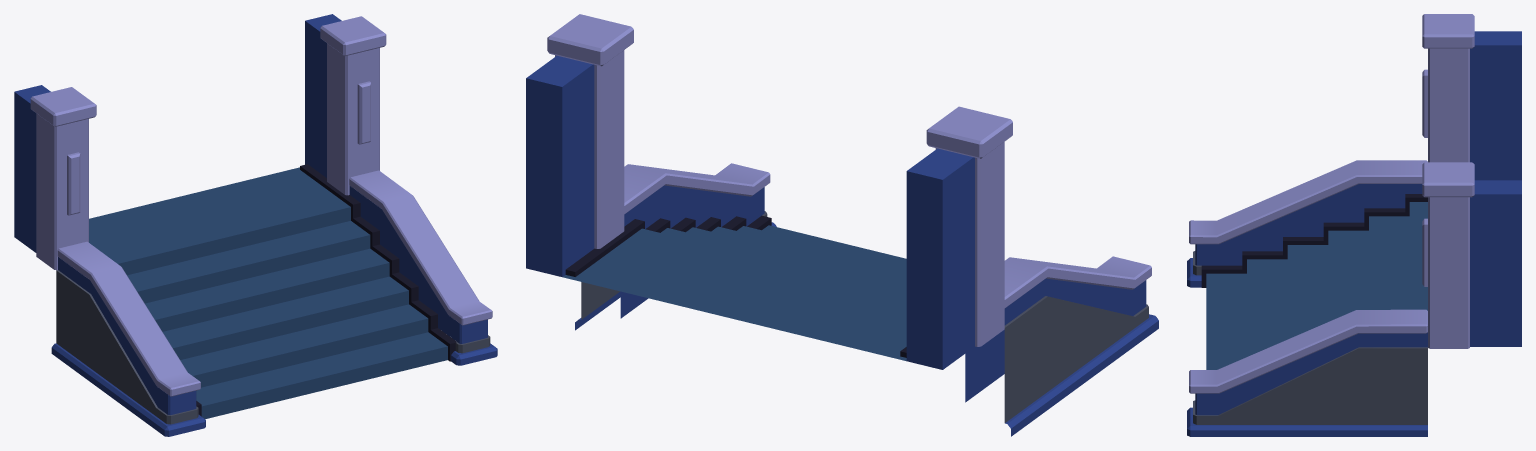
File: Stairs.fbx
3 views of the same model, side by side, from view 1: azimuth 30°, elevation 25°; view 2: azimuth 150°, elevation 25°; view 3: azimuth 270°, elevation 25° (orthographic). The views are drawn at different scales.
Parts seen in each view (by area): view 1: Stairs_01, Stairs_03, Stairs_04, Stairs_02, Stairs_06, Stairs, Stairs_05, Stairs_09; view 2: Stairs, Stairs_03, Stairs_06, Stairs_01, Stairs_04, Stairs_02, Stairs_05, Stairs_09; view 3: Stairs_03, Stairs_01, Stairs, Stairs_04, Stairs_02, Stairs_05, Stairs_09.
Part boxes in pixels (x1,y1,x2,y2): Stairs_01: (99,193,447,419); Stairs_03: (51,186,497,436); Stairs_04: (36,43,379,270); Stairs_02: (57,170,492,396); Stairs_06: (89,167,331,249); Stairs: (14,14,341,252); Stairs_05: (30,16,386,126); Stairs_09: (196,164,456,416); Stairs: (526,55,974,369); Stairs_03: (575,185,1158,436); Stairs_06: (562,247,906,361); Stairs_01: (617,225,906,317); Stairs_04: (555,50,1004,346); Stairs_02: (624,163,1151,308); Stairs_05: (547,14,1012,158); Stairs_09: (565,215,906,357); Stairs_03: (1187,184,1427,436); Stairs_01: (1206,202,1427,369); Stairs: (1470,31,1521,346); Stairs_04: (1422,48,1469,348); Stairs_02: (1189,160,1427,393); Stairs_05: (1422,14,1474,197); Stairs_09: (1201,194,1427,287).
Size of the model in its own units: 556 by 385 by 461.
